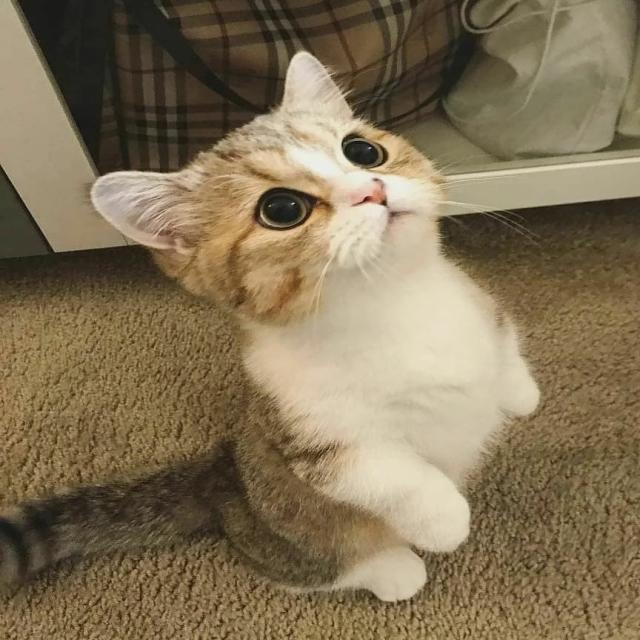Cats: (98, 72, 538, 604)
